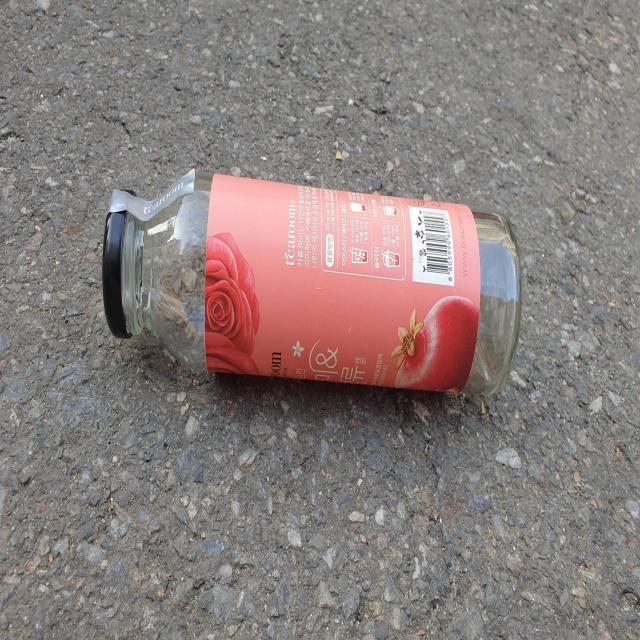glass: (102, 169, 522, 394)
